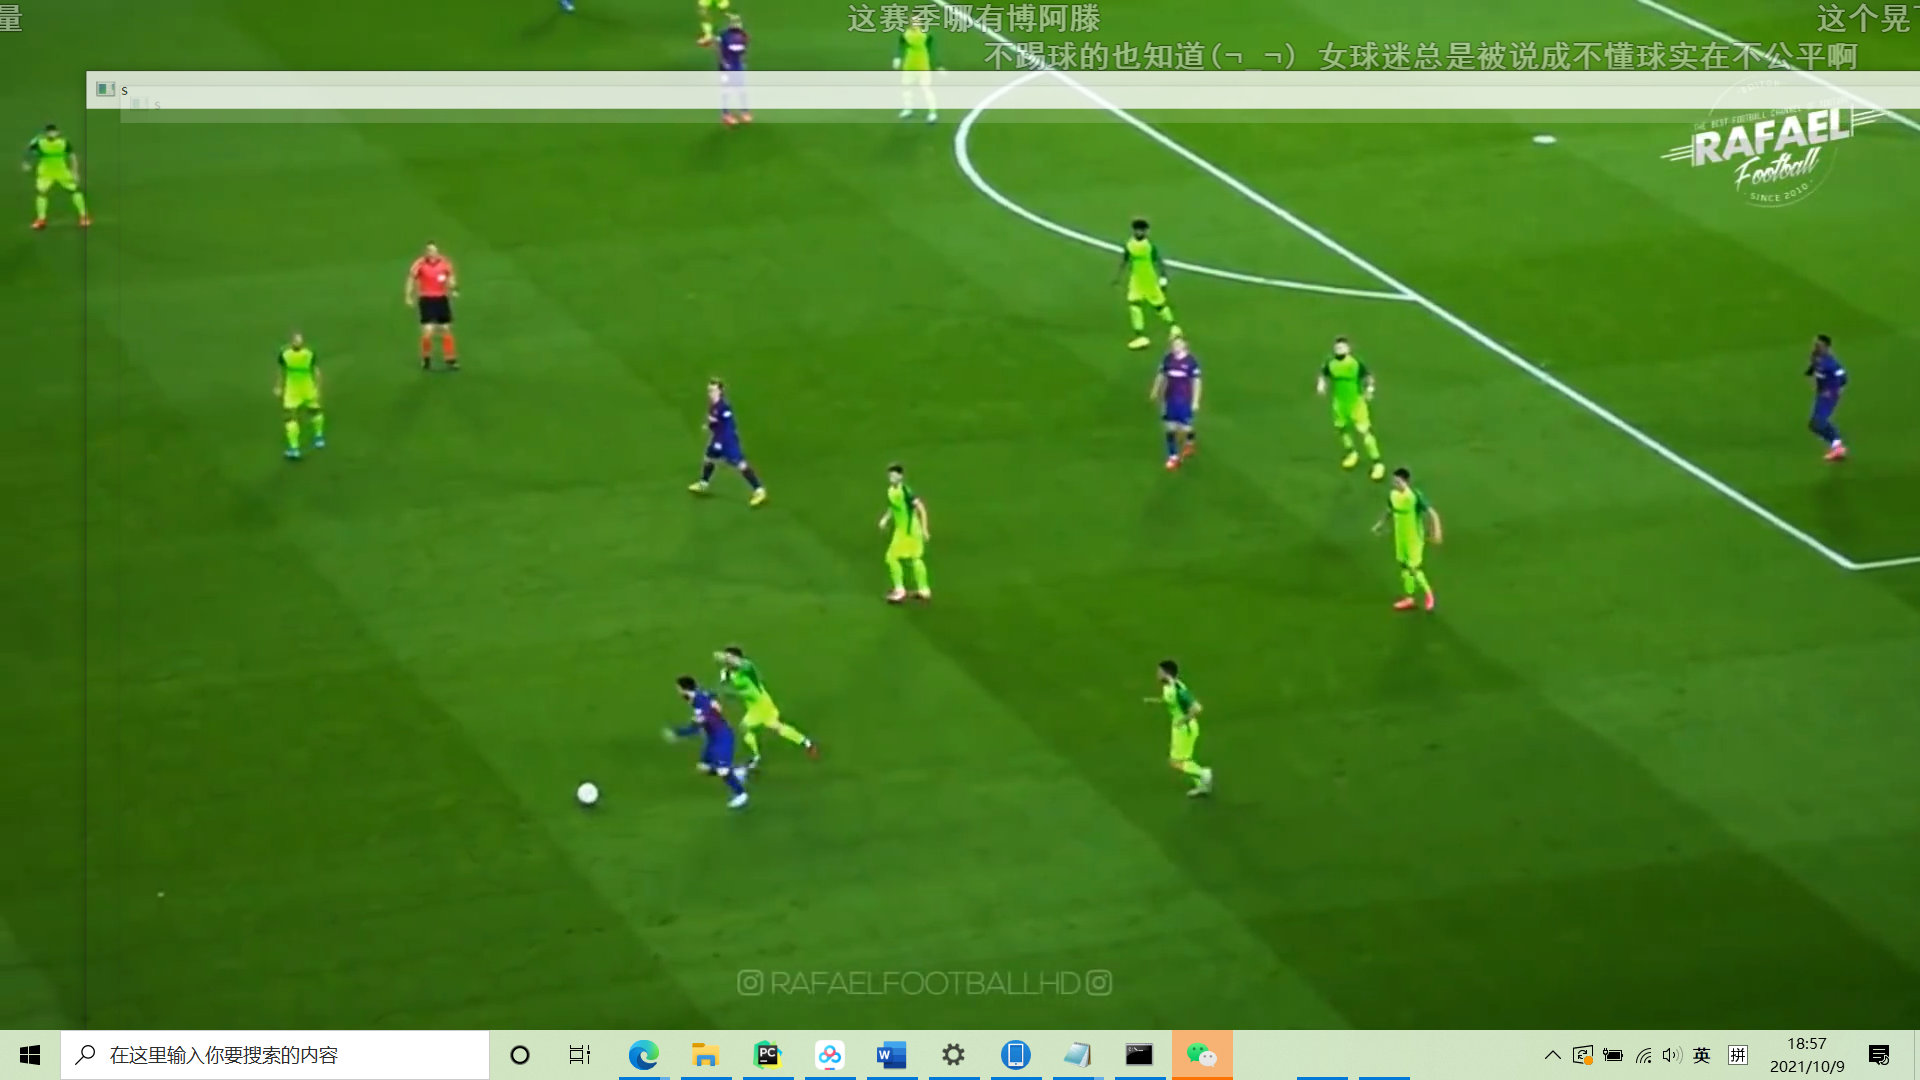ft: (574, 777, 605, 807)
